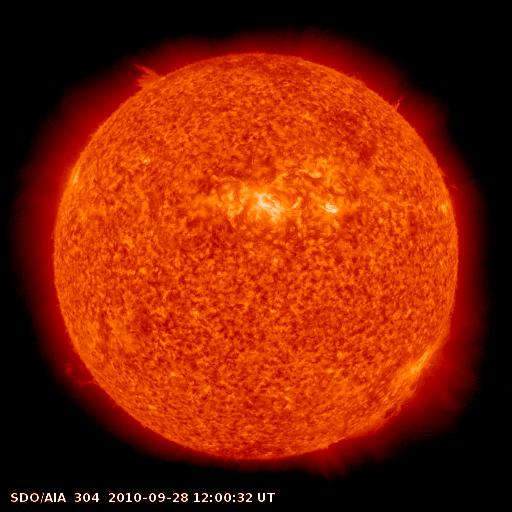prominence: (337, 397, 416, 450), (118, 47, 177, 101), (50, 349, 109, 399), (383, 81, 419, 124)
